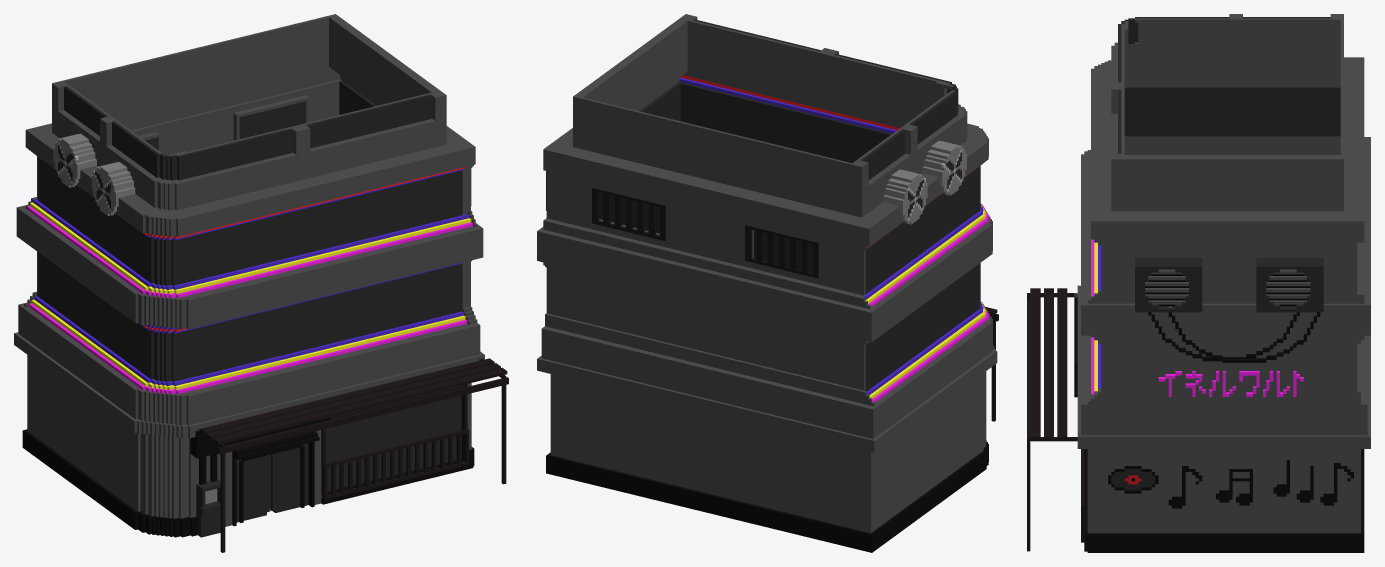
The model's file is Map2 (p1)-2.obj.
3 renders of one model, left to right at view 1: azimuth 30°, elevation 25°; view 2: azimuth 150°, elevation 25°; view 3: azimuth 270°, elevation 25°, orthographic. The views are drawn at different scales.
Bounding box in the file's own units: 12.4 × 12.6 × 10.2.
1 material, 1 textured.
